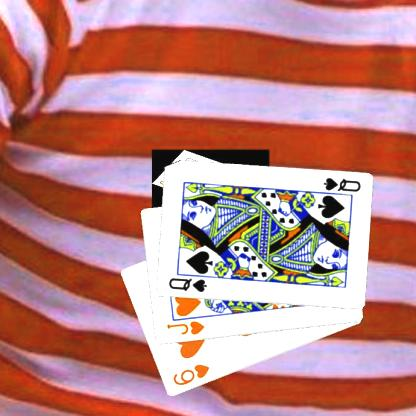6H: (170, 362, 210, 387)
JH: (164, 318, 206, 336)
QS: (166, 276, 208, 294), (320, 175, 362, 193)
